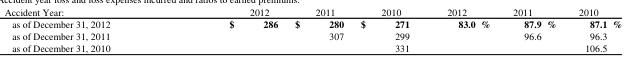table: (3, 4, 621, 53)
table column: (3, 4, 168, 53), (168, 4, 285, 53), (351, 4, 427, 53), (427, 4, 501, 53), (285, 4, 351, 53), (501, 4, 566, 53), (566, 4, 621, 53)
table column header: (3, 4, 621, 16)
table row: (3, 16, 621, 29), (3, 4, 621, 16), (3, 29, 621, 41), (3, 41, 621, 53)
